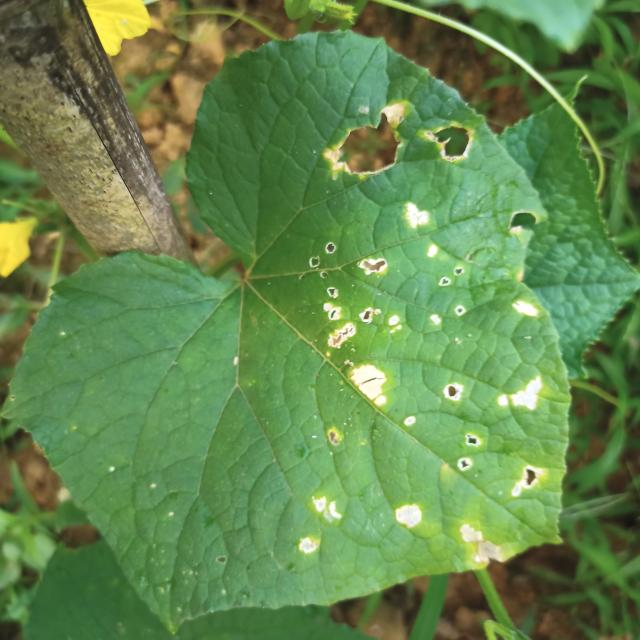disease_cucumber: (303, 241, 403, 352), (320, 100, 408, 184), (294, 492, 342, 555), (340, 359, 396, 412), (422, 122, 474, 167), (497, 372, 544, 418), (460, 521, 504, 568), (454, 431, 486, 471), (392, 500, 425, 535), (510, 461, 540, 499), (402, 200, 431, 233), (509, 300, 539, 321), (442, 380, 466, 404)
